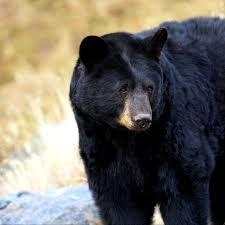bear: (69, 16, 225, 225)
